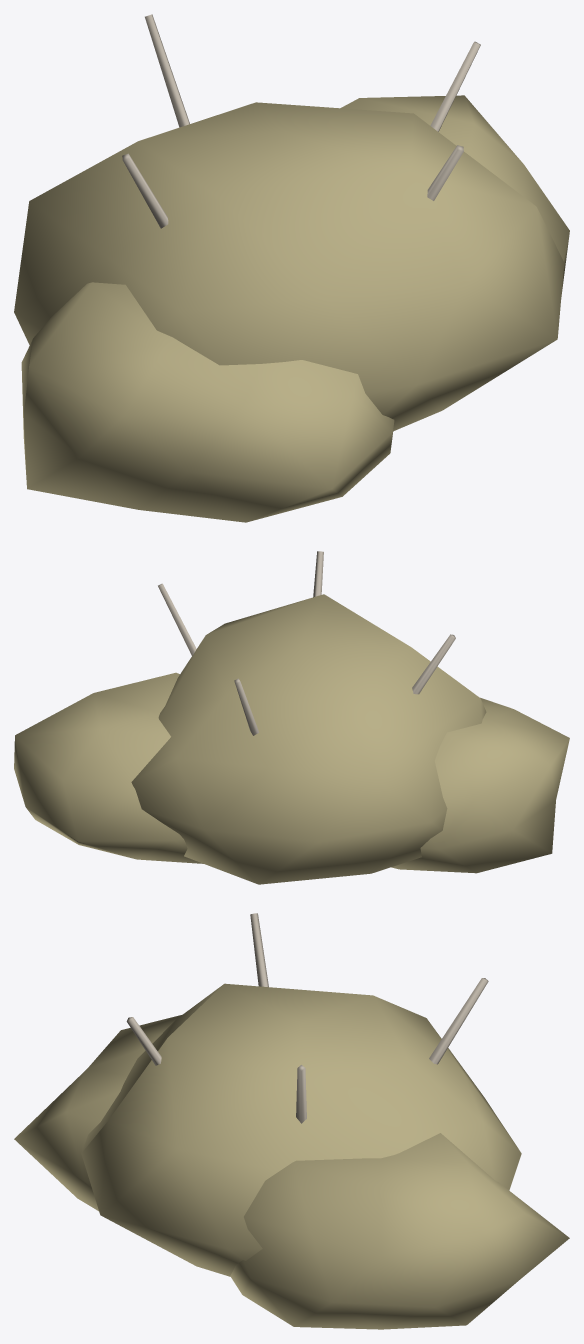
File: shrub_dry.glb
The picture shows the model from 3 angles, top to bottom: view 1: azimuth 30°, elevation 25°; view 2: azimuth 150°, elevation 25°; view 3: azimuth 270°, elevation 25°; orthographic projection. The views are drawn at different scales.
Parts seen in each view (by area): view 1: shrub_dry; view 2: shrub_dry; view 3: shrub_dry.
Part boxes in pixels (<box>): shrub_dry: <box>14,14,569,522</box>; shrub_dry: <box>14,551,569,884</box>; shrub_dry: <box>14,913,569,1329</box>.
Size of what is drawn, in the model's own units: 1.49 by 0.7898 by 1.39.
